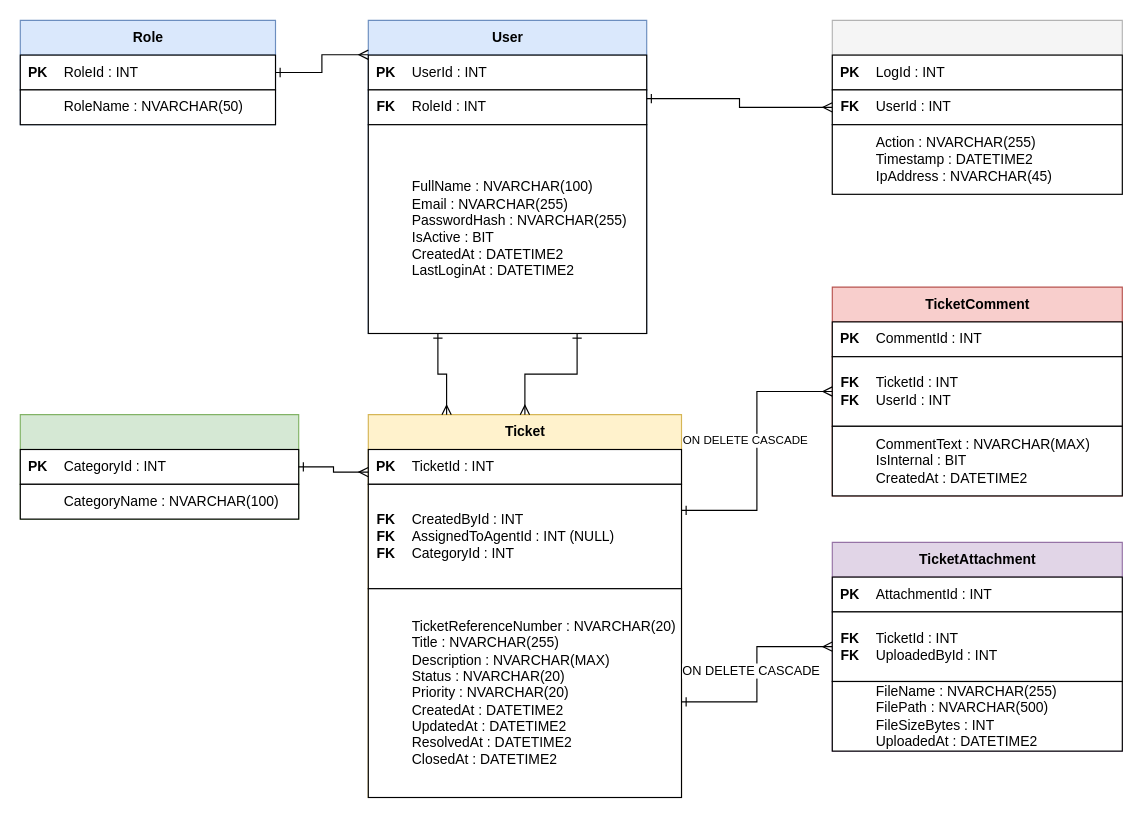
This 1143x818 diagram has some shape labels left out. Here are the shapes that lost their labels. From the top down, the box of each, then its label:
(831, 19, 1122, 194): ActivityLog
(19, 414, 299, 519): TicketCategory
